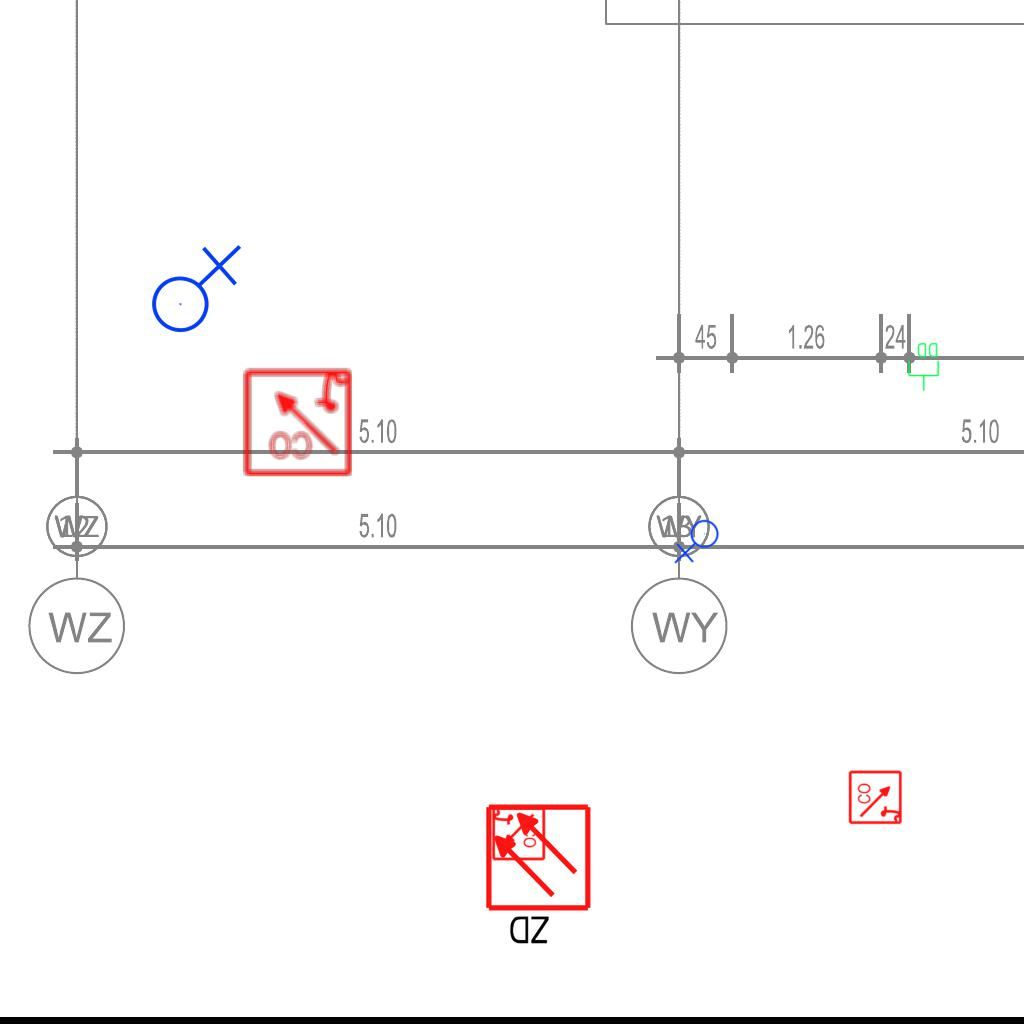Datenanschluss_zweifach: (907, 341, 941, 392)
Elektroanschluss_allgemein_230V_Geraeteanschlussdose_230V: (143, 240, 242, 334), (674, 519, 723, 566)
ROA_Rauchmelder_optisch_mit_Signalgeber_(Sockelsirene): (241, 365, 354, 478), (848, 769, 904, 825), (490, 806, 546, 862)
ZD_Melder_in_Zwischendecke_mit_Revisionsoeffnung_mind_40_x_40_cm: (483, 802, 597, 951)
